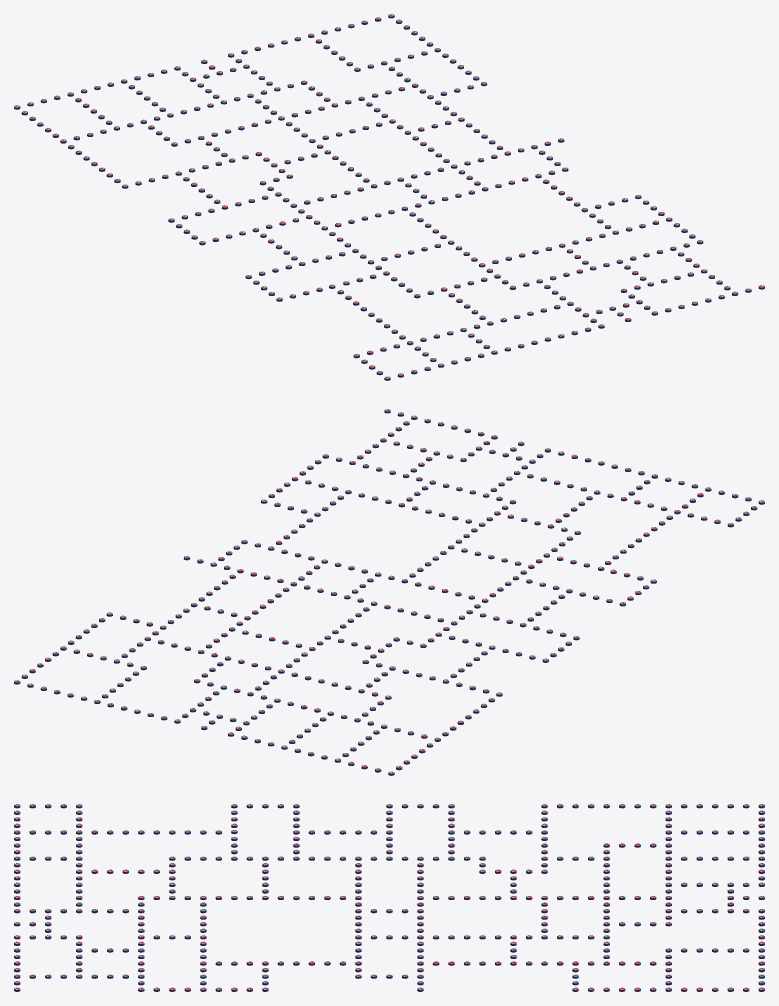
Rendered from caps-transformed.glb.
3 renders of one model, top to bottom at view 1: azimuth 30°, elevation 25°; view 2: azimuth 150°, elevation 25°; view 3: azimuth 270°, elevation 25°, orthographic.
Visible parts, largest first — view 1: Cylinder.791; view 2: Cylinder.791; view 3: Cylinder.791.
Boxes of the visible parts, box(x1,y1,x2,y2) form: Cylinder.791: box(14, 14, 764, 380); Cylinder.791: box(14, 409, 764, 775); Cylinder.791: box(14, 804, 764, 991).
Bounding box in the file's own units: 50.3 × 0.2197 × 85.7.
2 materials, 1 textured.
